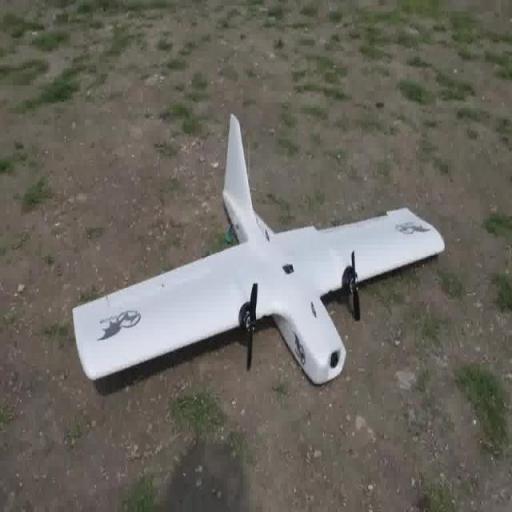uav: (69, 107, 448, 390)
